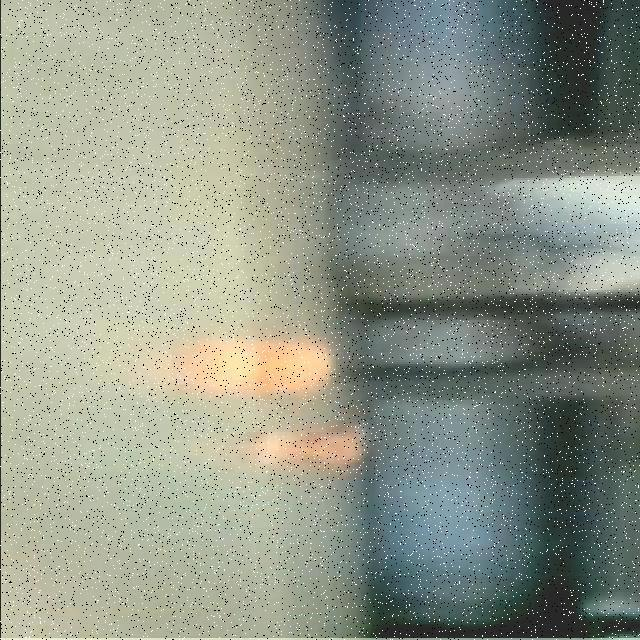ping-pong-ball: (178, 332, 259, 406), (258, 339, 336, 400), (297, 417, 377, 473)
